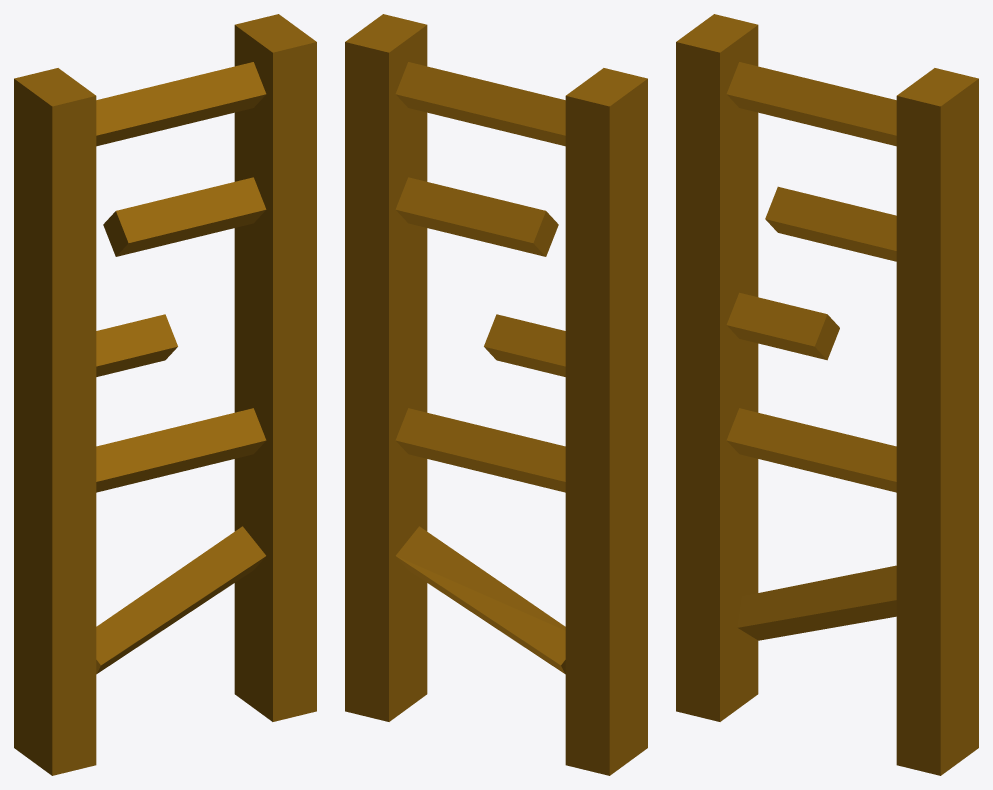
The model's file is obj_ladder_17_0.obj.
3 renders of one model, left to right at view 1: azimuth 30°, elevation 25°; view 2: azimuth 150°, elevation 25°; view 3: azimuth 330°, elevation 25°, orthographic.
Size of the model in its own units: 0.75 by 1.81 by 0.1875.
